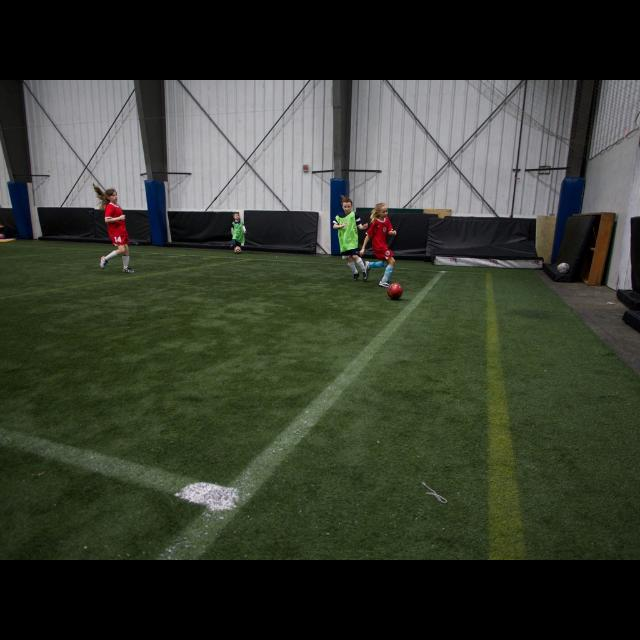Football: (384, 280, 404, 298), (556, 258, 570, 272)
